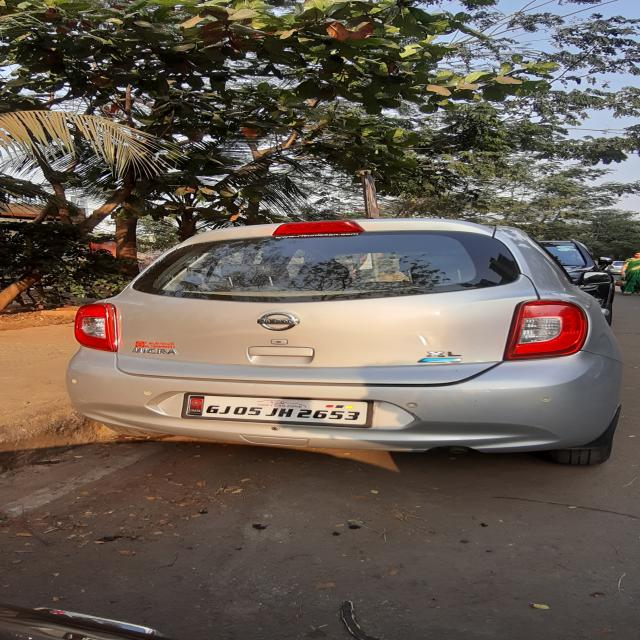Number-Plate: (192, 396, 366, 422)
